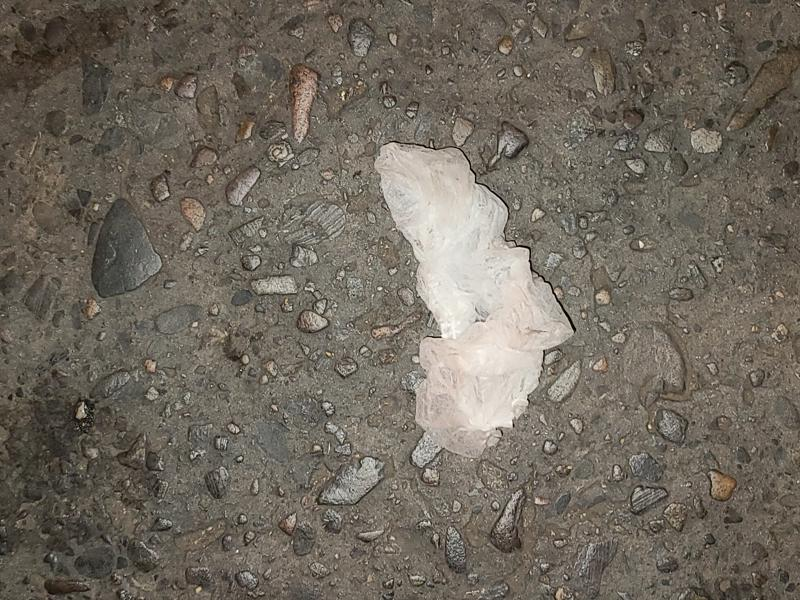papel: (373, 144, 576, 472)
